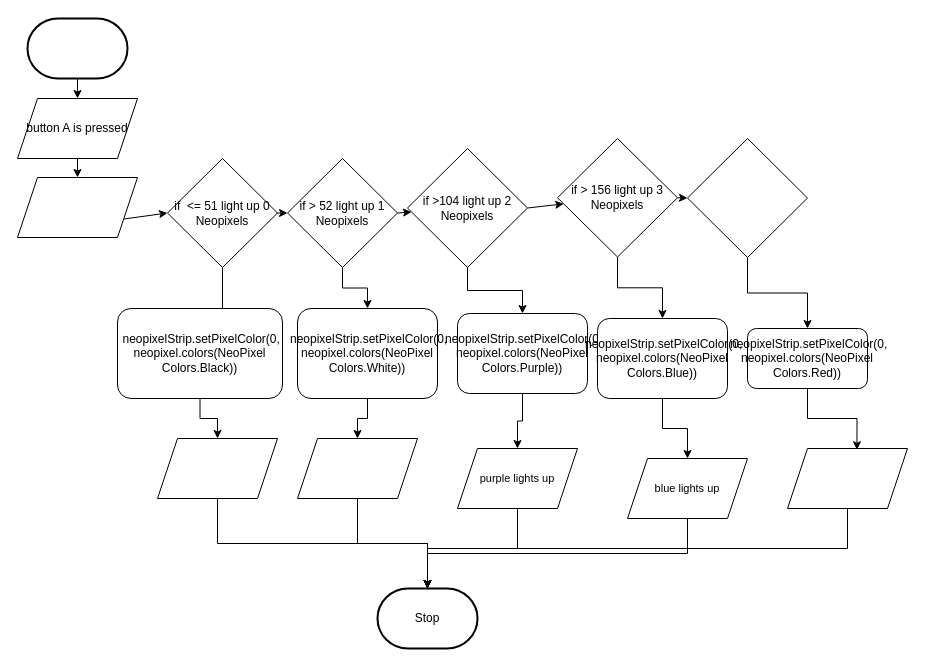
Image size: 925x666. Some labels were removed from this diagram. Each missing label, with the centre of its shape:
"if >208 light up 4 Neopixels" goes at (747,198).
"input.lightLevel()" goes at (77,207).
"no light lights up" goes at (217,468).
"red lights up" goes at (847,478).
"Start" goes at (77,48).
"white lights up" goes at (357,468).
